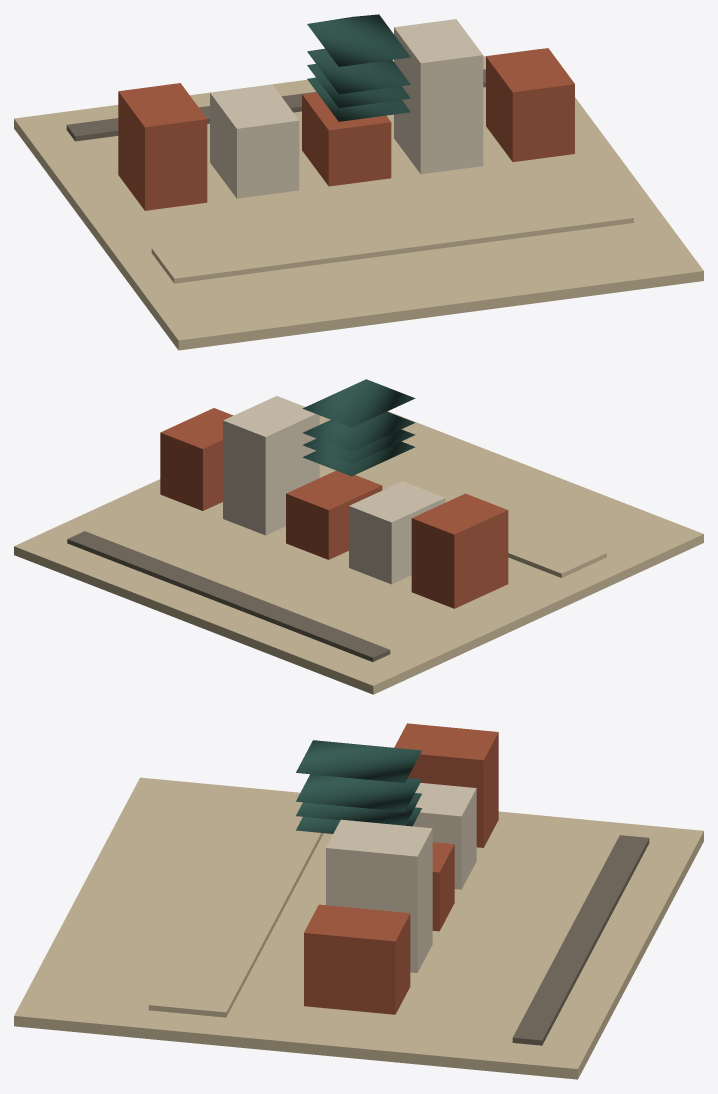
File: model-medium.glb
3 views of the same model, one above another, from view 1: azimuth 30°, elevation 25°; view 2: azimuth 150°, elevation 25°; view 3: azimuth 270°, elevation 25° (orthographic). The views are drawn at different scales.
Parts seen in each view (by area): view 1: context_site_plinth, street_public_axis, street_facade_3, street_facade_0, street_facade_1, street_facade_4, street_facade_2, street_roof_3, street_roof_0, front_scale_strip, street_roof_2, street_roof_1; view 2: context_site_plinth, street_facade_3, street_facade_0, front_scale_strip, street_facade_1, street_facade_4, street_facade_2, street_public_axis, street_roof_3, street_roof_0, street_roof_2, street_roof_1; view 3: context_site_plinth, street_public_axis, street_facade_4, street_facade_3, front_scale_strip, street_facade_0, street_facade_1, street_roof_3, street_roof_0, street_facade_2, street_roof_1, street_roof_2.
Part boxes in pixels (left/top/right/bottom): context_site_plinth: left=14, top=49, right=703, bottom=350; street_public_axis: left=151, top=187, right=633, bottom=283; street_facade_3: left=394, top=19, right=483, bottom=174; street_facade_0: left=118, top=83, right=207, bottom=210; street_facade_1: left=210, top=84, right=299, bottom=198; street_facade_4: left=486, top=48, right=574, bottom=161; street_facade_2: left=302, top=92, right=391, bottom=186; street_roof_3: left=307, top=14, right=410, bottom=66; street_roof_0: left=307, top=48, right=410, bottom=94; front_scale_strip: left=66, top=69, right=485, bottom=141; street_roof_2: left=307, top=77, right=410, bottom=121; street_roof_1: left=307, top=63, right=410, bottom=107; context_site_plinth: left=14, top=411, right=703, bottom=694; street_facade_3: left=223, top=396, right=319, bottom=535; street_facade_0: left=411, top=493, right=508, bottom=608; front_scale_strip: left=67, top=531, right=390, bottom=661; street_facade_1: left=349, top=481, right=445, bottom=584; street_facade_4: left=160, top=408, right=233, bottom=510; street_facade_2: left=286, top=470, right=382, bottom=559; street_public_axis: left=319, top=464, right=606, bottom=577; street_roof_3: left=302, top=379, right=415, bottom=427; street_roof_0: left=303, top=411, right=415, bottom=451; street_roof_2: left=302, top=441, right=415, bottom=476; street_roof_1: left=302, top=429, right=415, bottom=464; context_site_plinth: left=14, top=777, right=703, bottom=1079; street_public_axis: left=148, top=796, right=323, bottom=1017; street_facade_4: left=304, top=904, right=410, bottom=1014; street_facade_3: left=326, top=819, right=432, bottom=972; front_scale_strip: left=512, top=835, right=649, bottom=1045; street_facade_0: left=394, top=723, right=498, bottom=847; street_facade_1: left=413, top=783, right=476, bottom=889; street_roof_3: left=296, top=740, right=421, bottom=783; street_roof_0: left=296, top=774, right=421, bottom=811; street_facade_2: left=432, top=842, right=454, bottom=931; street_roof_1: left=296, top=793, right=421, bottom=825; street_roof_2: left=296, top=807, right=421, bottom=833.
Bounding box in the file's own units: 9.55 × 2.89 × 9.55.
